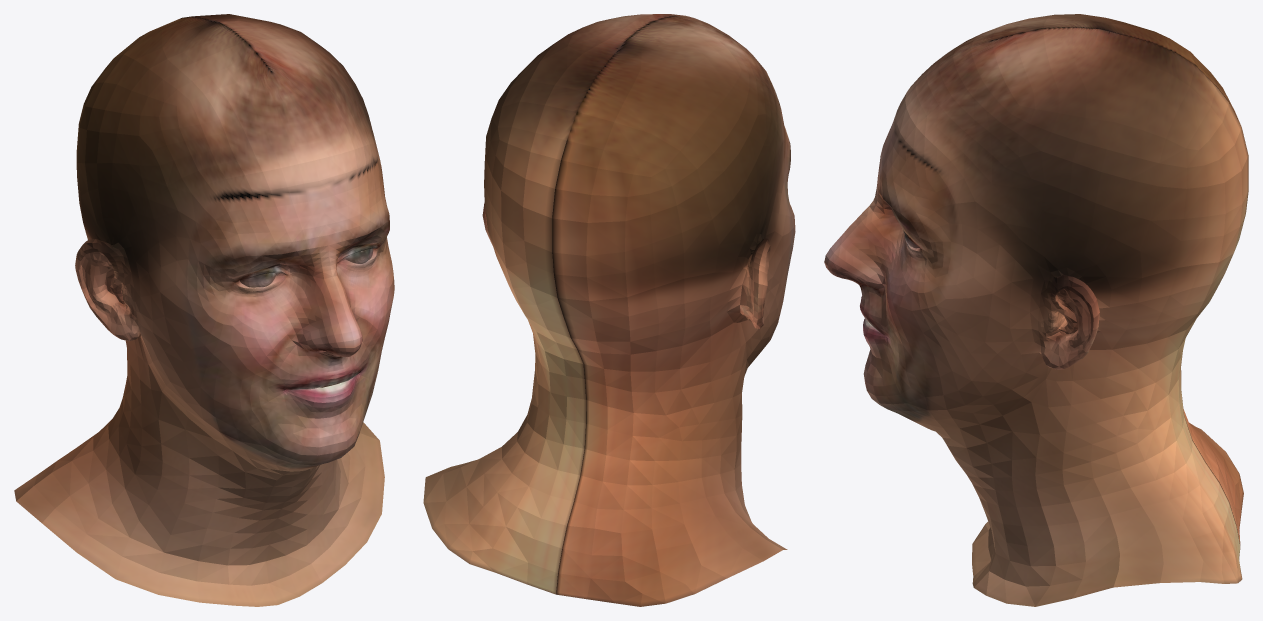
The model's file is tomc.fbx.
3 views of the same model, side by side, from view 1: azimuth 30°, elevation 25°; view 2: azimuth 150°, elevation 25°; view 3: azimuth 270°, elevation 25° (orthographic). The views are drawn at different scales.
Visible parts, largest first — view 1: tomc; view 2: tomc; view 3: tomc.
Part boxes in pixels (x1,y1,x2,y2): tomc: (14, 14, 394, 606); tomc: (423, 14, 795, 606); tomc: (824, 14, 1248, 606).
Bounding box in the file's own units: 21.95 × 33.01 × 23.06.
1 material, 1 textured.
